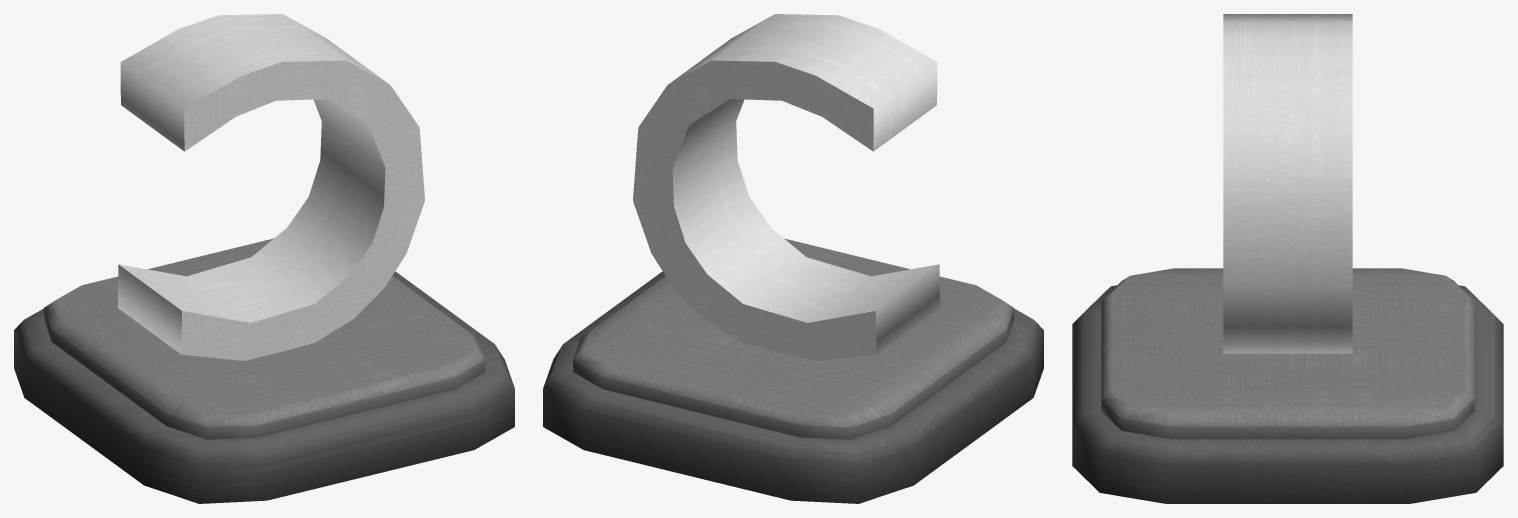
The model's file is Statue Letter C Hand.fbx.
The picture shows the model from 3 angles, left to right: view 1: azimuth 30°, elevation 25°; view 2: azimuth 150°, elevation 25°; view 3: azimuth 270°, elevation 25°; orthographic projection.
Visible parts, largest first — view 1: StatueBase (1), Letter; view 2: StatueBase (1), Letter; view 3: StatueBase (1), Letter.
Part boxes in pixels (left/top/right/bottom): StatueBase (1): left=14, top=238, right=514, bottom=503; Letter: left=118, top=14, right=424, bottom=360; StatueBase (1): left=543, top=238, right=1043, bottom=503; Letter: left=633, top=14, right=939, bottom=360; StatueBase (1): left=1072, top=268, right=1503, bottom=503; Letter: left=1223, top=14, right=1352, bottom=353.
Bounding box in the file's own units: 0.9118 × 0.876 × 0.9299.
